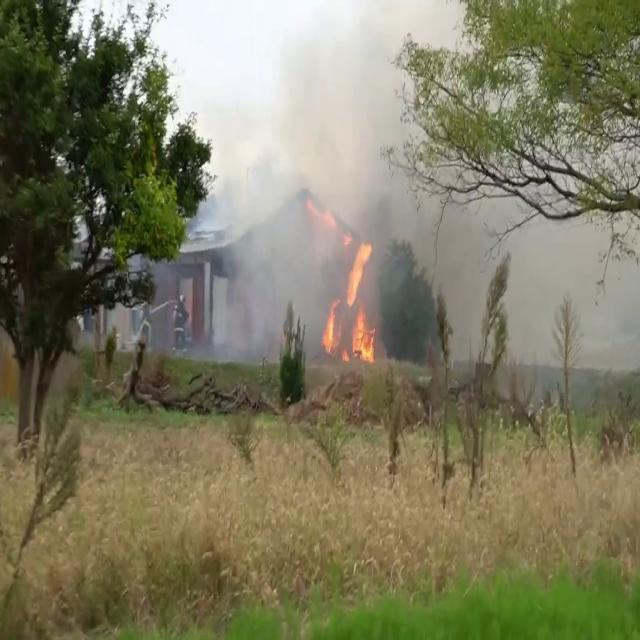Fire: (322, 226, 382, 364)
Smoke: (206, 1, 430, 344)
